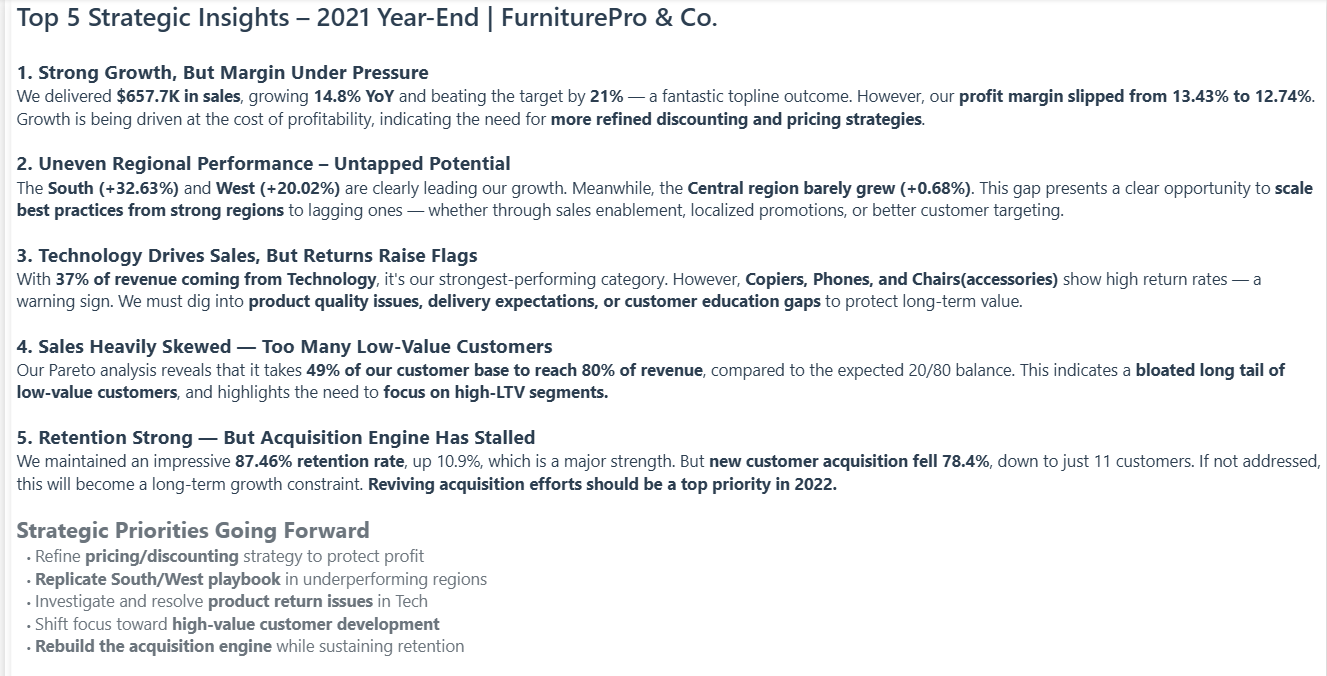

The page's visual inventory and layout, read from the dashboard file:
{"tool":"powerbi","page":{"name":"Insights","canvas":[1280,720],"ordinal":5},"visuals":[{"type":"textbox","title":"Top 5 Strategic Insights – 2021 Year-End | FurniturePro & Co.","box":[5.7,0,1270,720],"z":0}]}

Visuals, with their boxes on the page's 1280x720 design canvas (x1, y1, x2, y2). These are canvas units, not pixel positions in the 1327x676 screenshot, which may show the page scaled, cropped or inside an application window:
"Top 5 Strategic Insights – 2021 Year-End | FurniturePro & Co." textbox: {"x1": 6, "y1": 0, "x2": 1276, "y2": 720}
